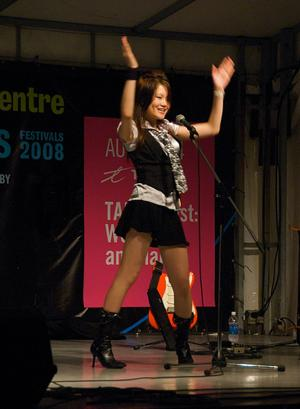person: (90, 34, 237, 374)
